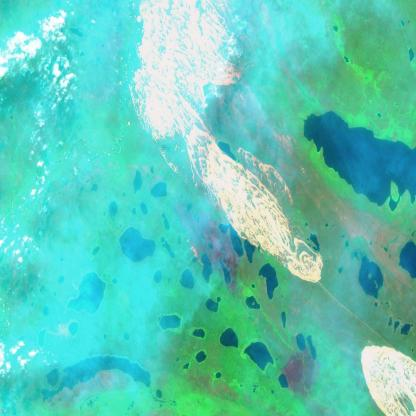fire: (180, 235, 206, 268)
